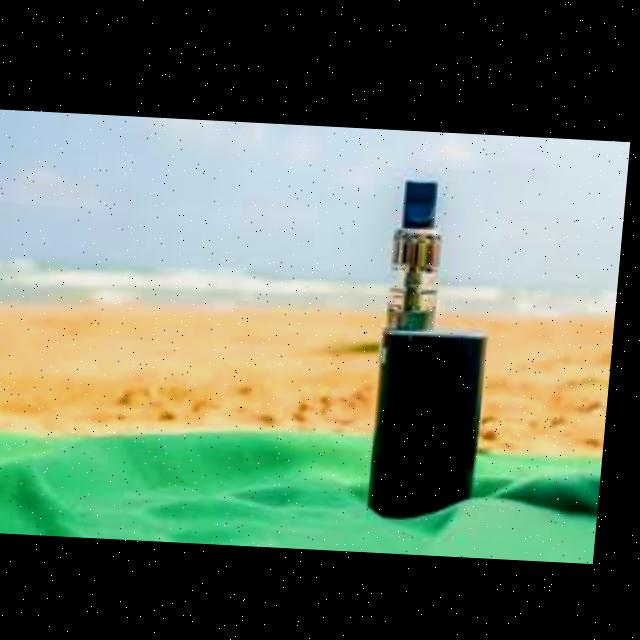vape: (377, 175, 503, 517)
